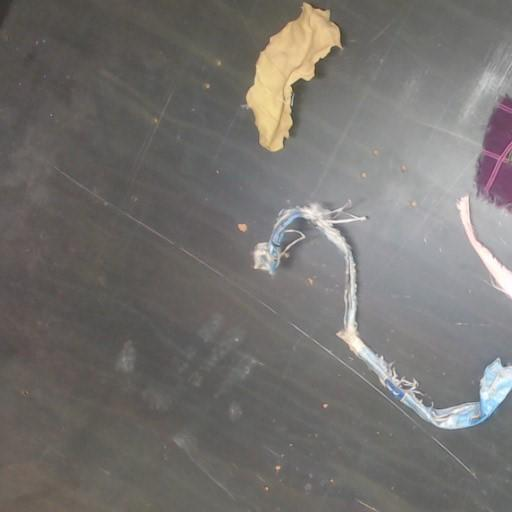cloth: (254, 204, 511, 429), (246, 3, 341, 151), (456, 196, 511, 299), (475, 96, 511, 211)
conveyor belt: (0, 0, 511, 511)
